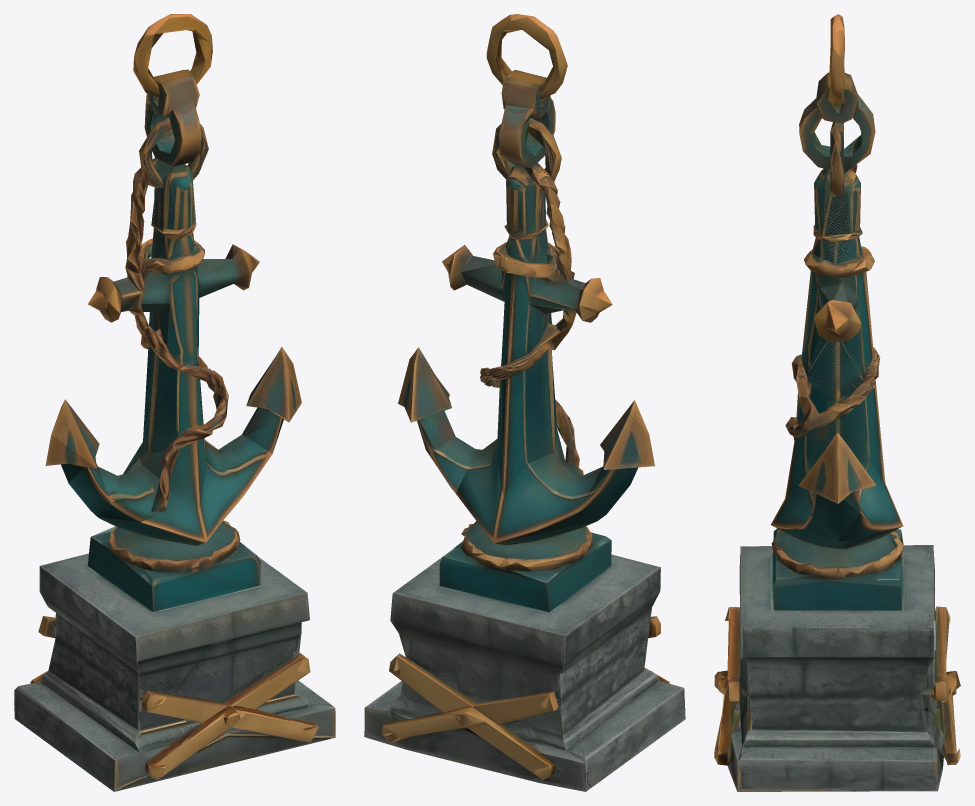
The model's file is statue-anchor.glb.
The picture shows the model from 3 angles, left to right: view 1: azimuth 30°, elevation 25°; view 2: azimuth 150°, elevation 25°; view 3: azimuth 270°, elevation 25°; orthographic projection.
Bounding box in the file's own units: 0.7142 × 1.9 × 0.5906.
Materials: 1 (1 with a texture image).
